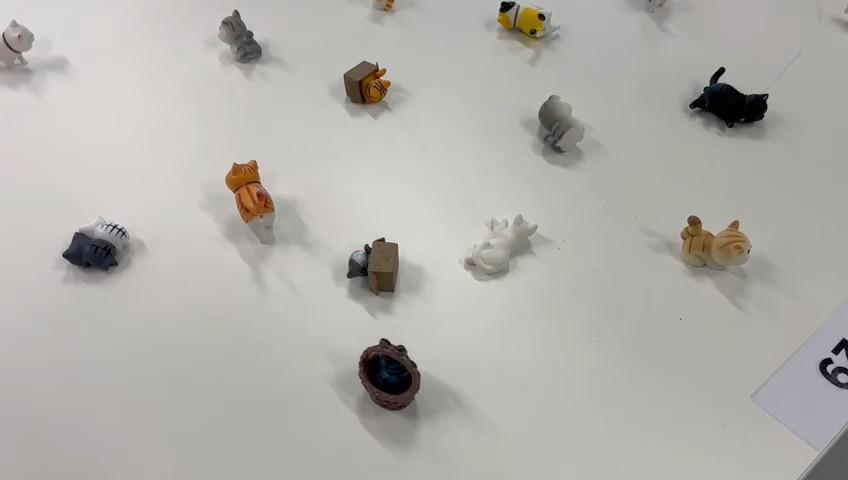pet: (346, 324, 452, 430), (461, 189, 546, 320), (671, 194, 773, 300), (523, 81, 620, 190), (688, 61, 783, 155), (213, 144, 296, 240), (338, 41, 416, 134), (341, 219, 410, 299), (61, 214, 136, 286), (213, 4, 284, 79), (478, 0, 572, 50), (1, 14, 54, 93)
